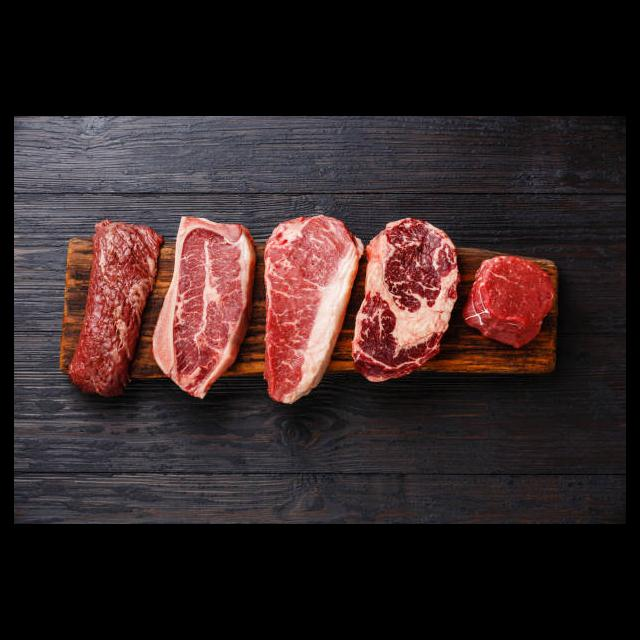beef: (152, 210, 259, 404), (259, 213, 365, 406), (351, 214, 459, 387), (64, 207, 161, 394), (461, 251, 559, 349)
